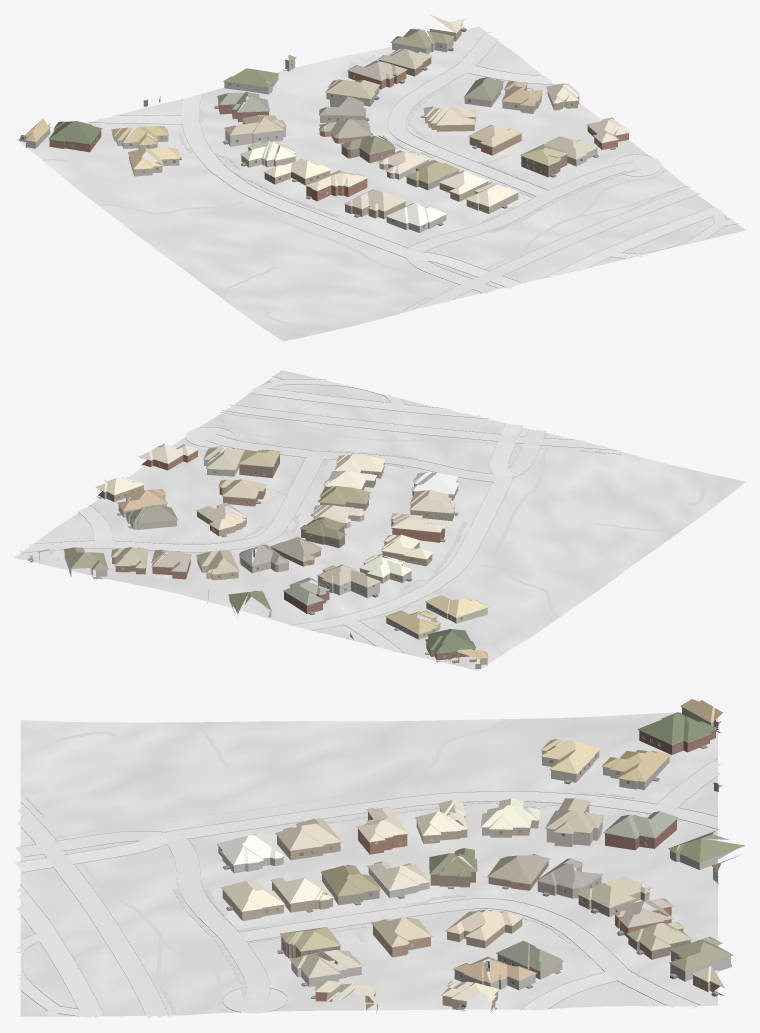
The picture shows the model from 3 angles, top to bottom: view 1: azimuth 30°, elevation 25°; view 2: azimuth 150°, elevation 25°; view 3: azimuth 270°, elevation 25°; orthographic projection. The views are drawn at different scales.
Visible parts, largest first — view 1: ground, roof, concrete, wall, asphalt, walk, curb, wall_stucco, detail, wall_stone; view 2: ground, roof, concrete, wall, asphalt, walk, curb, wall_stucco, detail, wall_stone; view 3: ground, roof, concrete, wall, asphalt, walk, curb, wall_stucco, detail, wall_stone, mark_w.
Part boxes in pixels (x1,y1,x2,y2): ground: [17, 26, 745, 341]; roof: [24, 15, 629, 226]; concrete: [97, 31, 734, 293]; wall: [49, 23, 628, 218]; asphalt: [417, 189, 720, 307]; walk: [43, 54, 688, 326]; curb: [89, 31, 738, 310]; wall_stucco: [19, 59, 541, 176]; detail: [21, 21, 629, 228]; wall_stone: [224, 38, 597, 232]; ground: [14, 370, 745, 670]; roof: [38, 443, 488, 659]; concrete: [19, 377, 546, 652]; wall: [39, 450, 475, 662]; asphalt: [226, 387, 607, 449]; walk: [128, 411, 705, 653]; curb: [21, 376, 620, 653]; wall_stucco: [118, 495, 487, 665]; detail: [28, 448, 488, 660]; wall_stone: [64, 460, 458, 618]; ground: [20, 712, 717, 1016]; roof: [217, 699, 745, 1004]; concrete: [15, 761, 721, 1017]; wall: [222, 729, 724, 1012]; asphalt: [15, 806, 167, 1018]; walk: [21, 714, 706, 1015]; curb: [15, 758, 719, 1016]; wall_stucco: [454, 707, 720, 990]; detail: [217, 706, 733, 1009]; wall_stone: [218, 846, 741, 986]; mark_w: [20, 801, 669, 1016].
Bounding box in the file's own units: 254 × 14.61 × 262.
